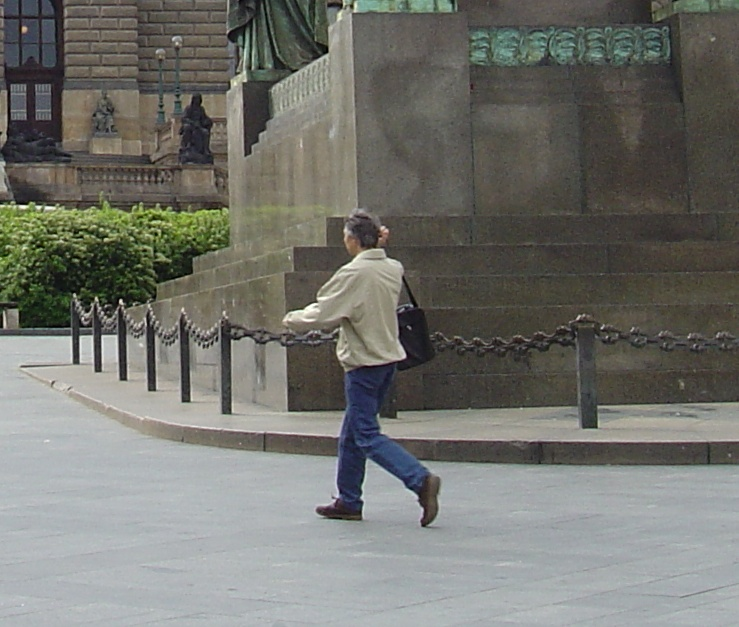person: (317, 205, 412, 527)
